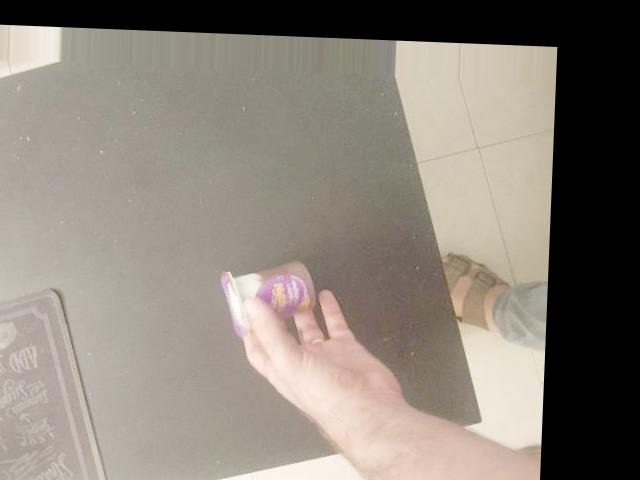milky: (138, 128, 233, 252)
